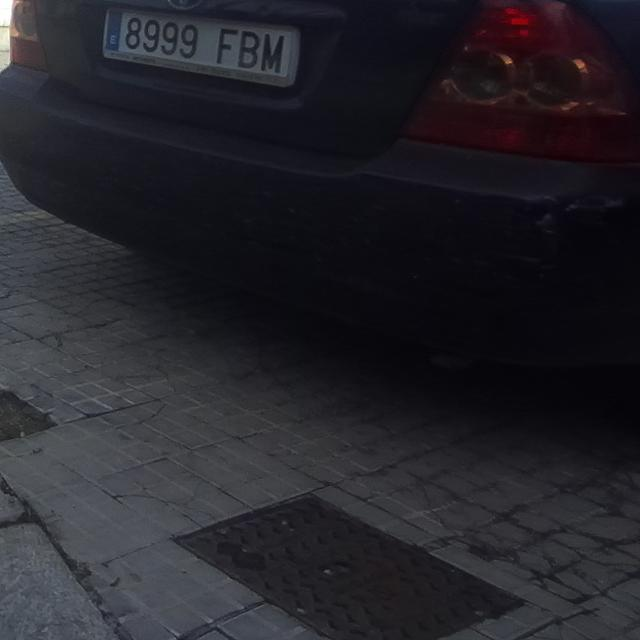calcada_quebrada: (545, 536, 638, 573), (116, 365, 179, 397), (417, 482, 454, 536), (179, 479, 220, 525), (533, 574, 591, 605), (115, 405, 165, 433), (115, 489, 168, 508), (52, 331, 66, 352)
